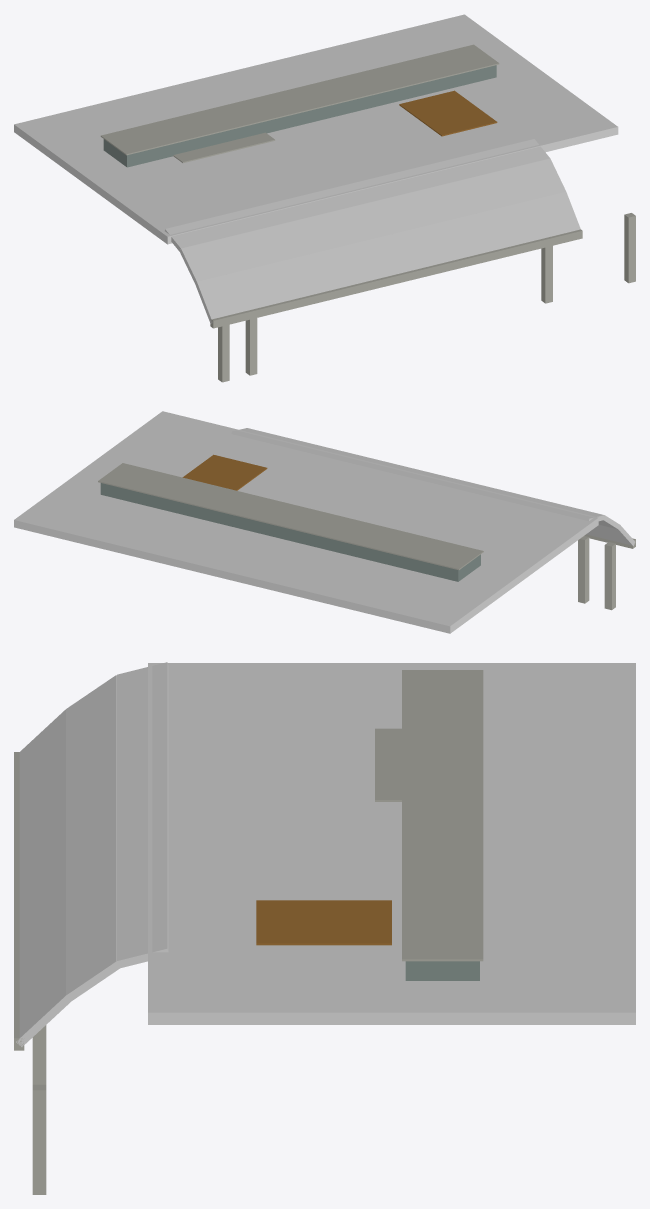
Rendered from SM_VestibuloCastellon_v4_Liberada_LOD1.fbx.
The picture shows the model from 3 angles, top to bottom: view 1: azimuth 30°, elevation 25°; view 2: azimuth 150°, elevation 25°; view 3: azimuth 270°, elevation 25°; orthographic projection. The views are drawn at different scales.
Visible parts, largest first — view 1: Cubierta; view 2: Cubierta; view 3: Cubierta.
Part boxes in pixels (x1,y1,x2,y2): Cubierta: [14, 14, 635, 382]; Cubierta: [14, 411, 635, 633]; Cubierta: [14, 662, 635, 1194].
Size of what is drawn, in the model's own units: 24.4 by 7.15 by 18.35.
